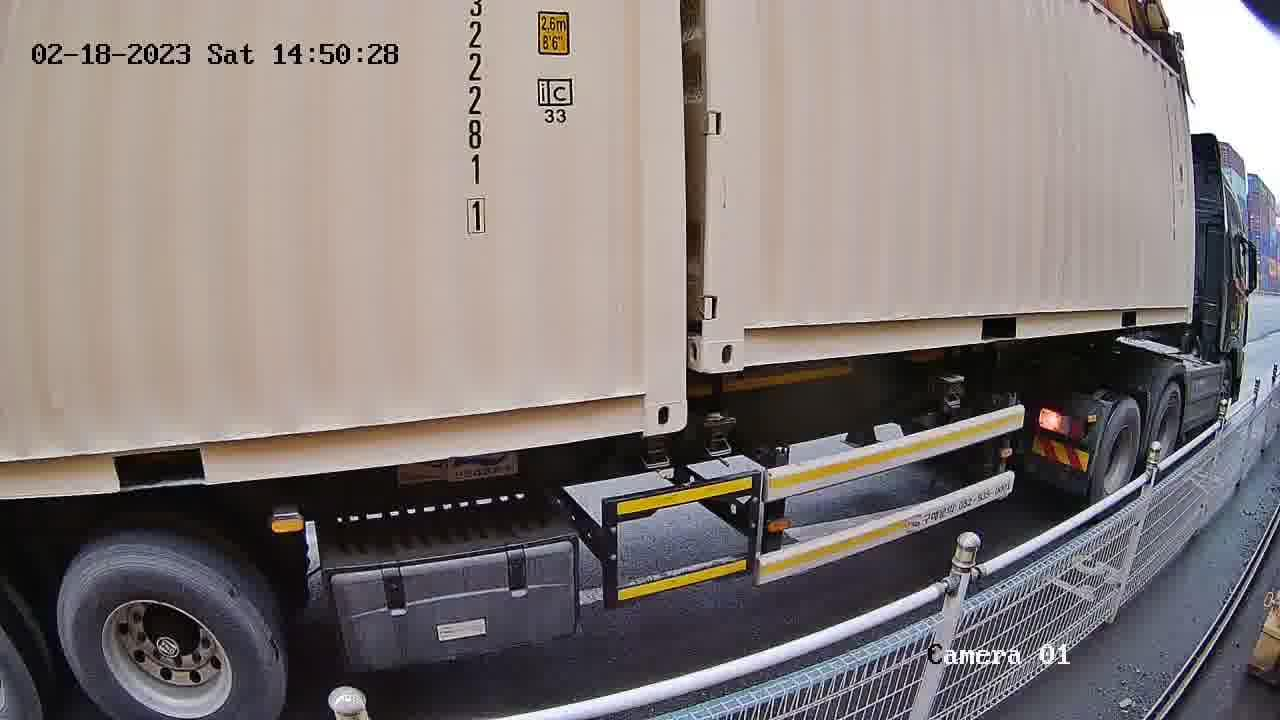Cone: (697, 409, 738, 466), (634, 432, 672, 475)
Hole_L: (706, 293, 783, 373)
Hole_R: (600, 367, 688, 437)
Tire: (60, 546, 283, 718), (1093, 402, 1141, 506), (1149, 382, 1183, 480)
